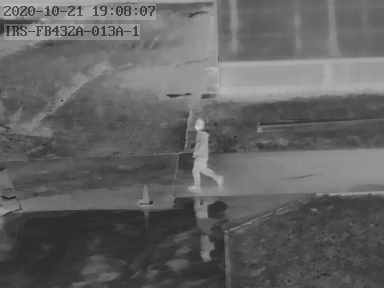person: (185, 118, 223, 191)
